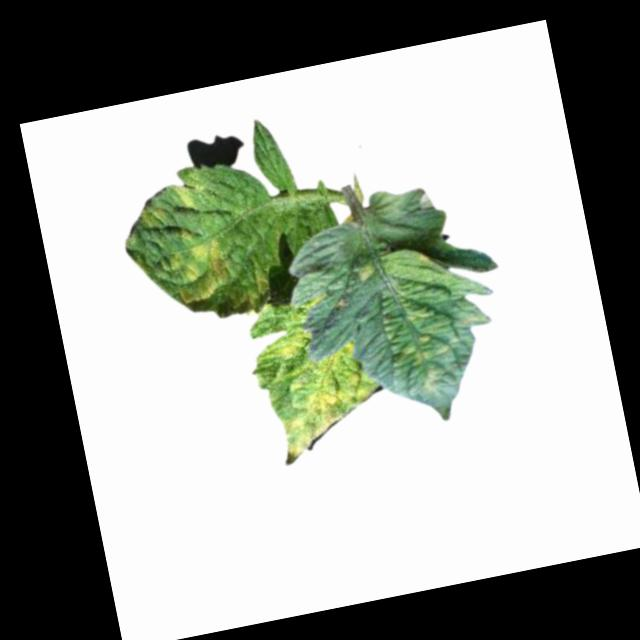Leaf_Mold: (363, 235, 506, 404), (257, 320, 376, 465), (156, 232, 232, 307), (173, 182, 198, 217)
